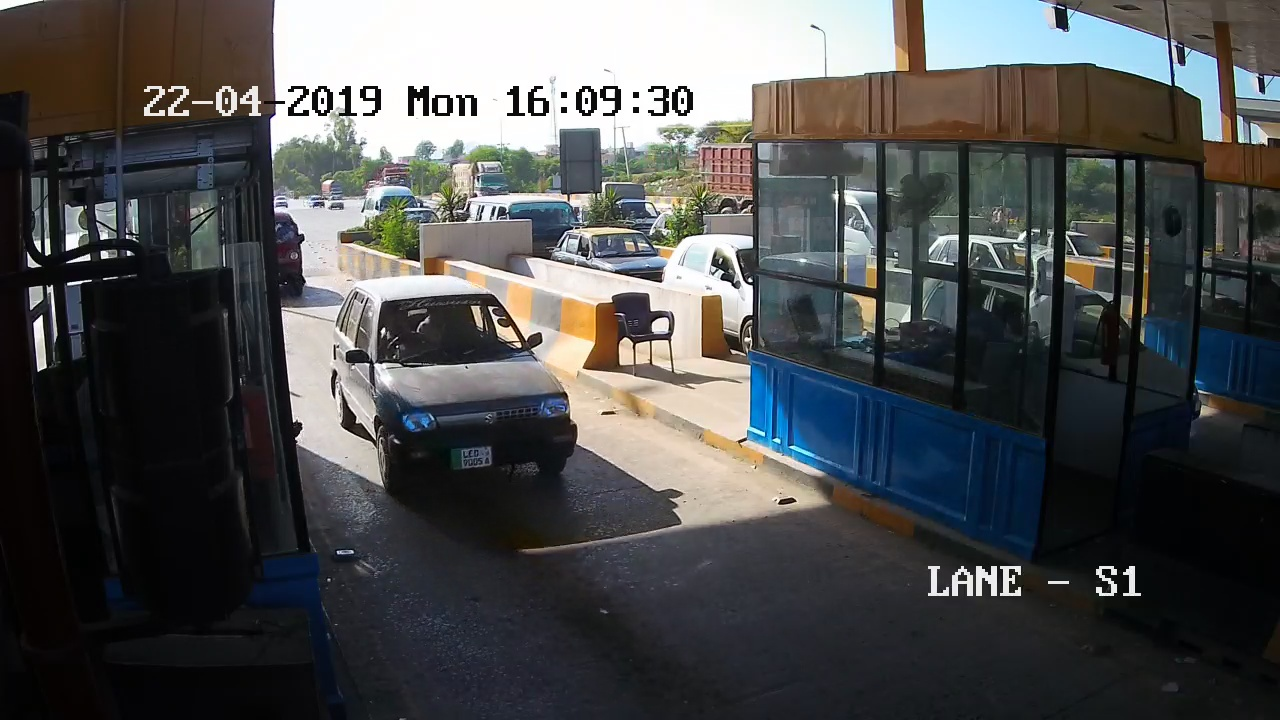Number Plate (Car): (447, 446, 492, 468)
